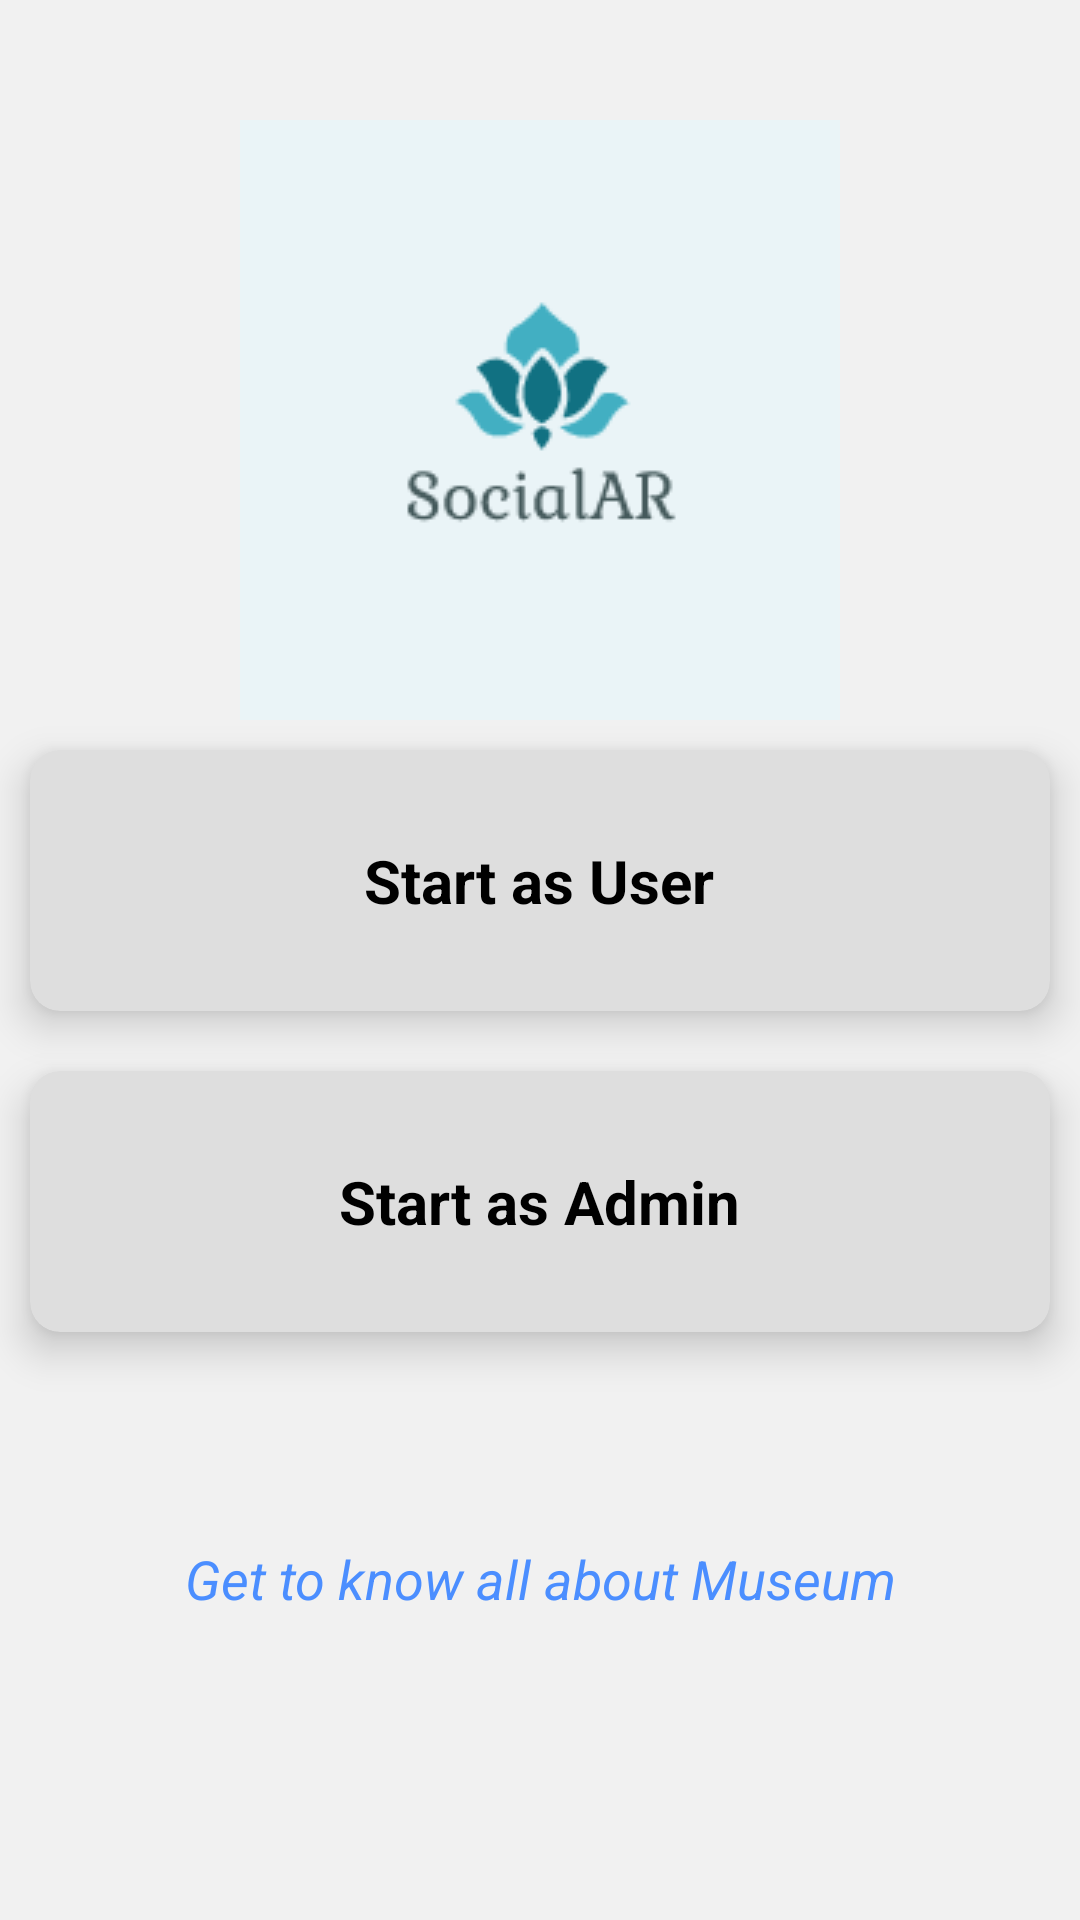

Named icons in this screenshot (1080x1920) and their bounding boxes, (x1, y1, x2, y2):
app: (407, 302, 676, 522)
